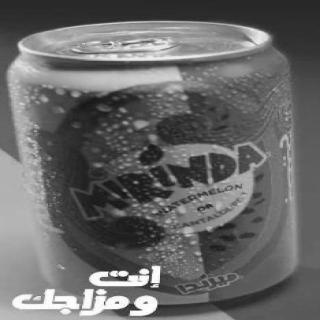alumunium_can: (4, 22, 300, 310)
